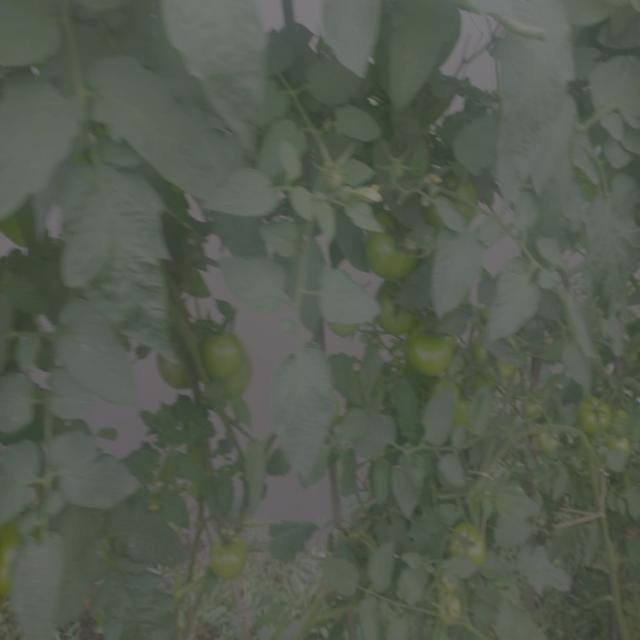tomato: (364, 222, 421, 288), (408, 329, 467, 385), (442, 162, 489, 225), (267, 120, 316, 171), (200, 329, 246, 377), (447, 521, 493, 568), (211, 530, 250, 582), (15, 500, 54, 551), (579, 393, 618, 444), (530, 424, 581, 463), (434, 588, 477, 631), (380, 292, 419, 332), (521, 385, 557, 423), (218, 373, 260, 405)
